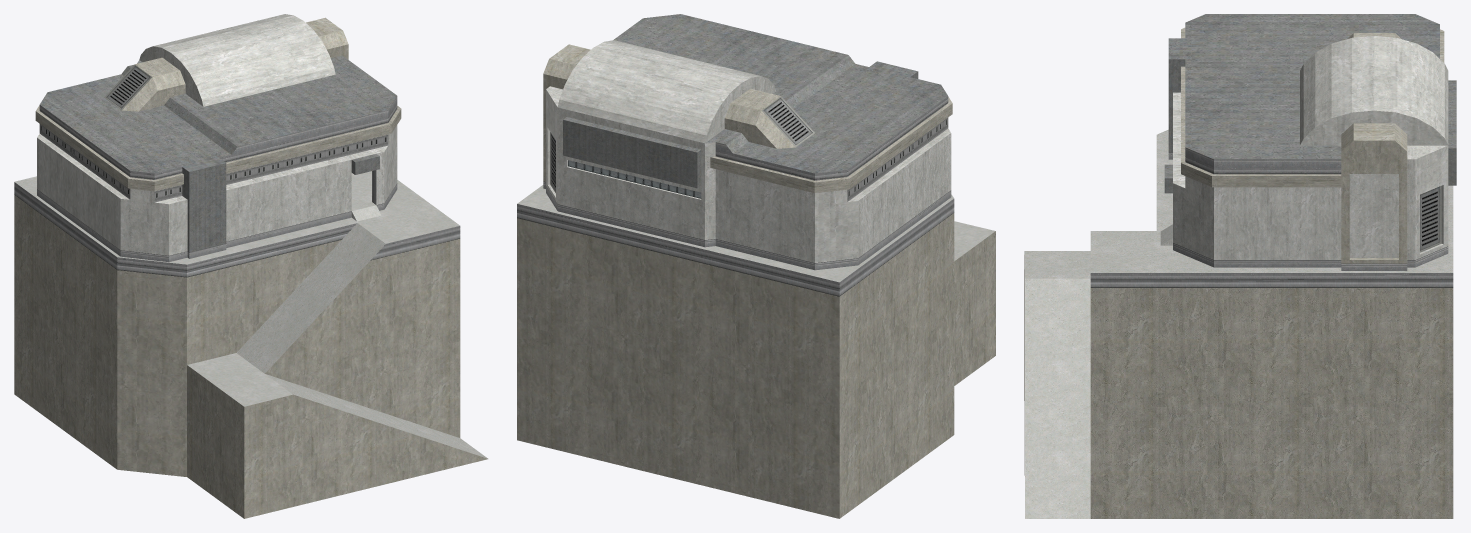
Rendered from ply_corl_house_m_s02_fp1_r0_exterior_mesh_l0.fbx.
The picture shows the model from 3 angles, left to right: view 1: azimuth 30°, elevation 25°; view 2: azimuth 150°, elevation 25°; view 3: azimuth 270°, elevation 25°; orthographic projection. The views are drawn at different scales.
Visible parts, largest first — view 1: mesh_node; view 2: mesh_node; view 3: mesh_node.
Part boxes in pixels (left/top/right/bottom): mesh_node: left=14, top=14, right=488, bottom=518; mesh_node: left=517, top=14, right=995, bottom=518; mesh_node: left=1024, top=14, right=1456, bottom=518.
Bounding box in the file's own units: 23.53 × 26.1 × 26.27.
